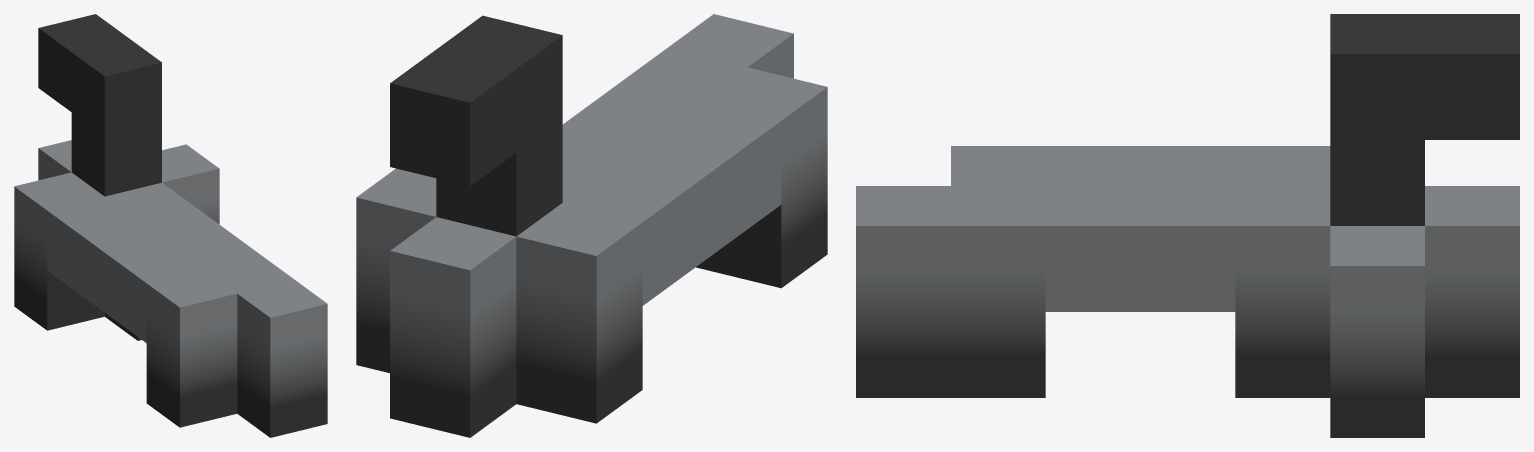
Rendered from Leg9.fbx.
3 views of the same model, side by side, from view 1: azimuth 30°, elevation 25°; view 2: azimuth 150°, elevation 25°; view 3: azimuth 270°, elevation 25° (orthographic). The views are drawn at different scales.
Parts seen in each view (by area): view 1: Leg9; view 2: Leg9; view 3: Leg9.
Part boxes in pixels (left/top/right/bottom): Leg9: left=14, top=14, right=327, bottom=437; Leg9: left=356, top=14, right=827, bottom=437; Leg9: left=856, top=14, right=1519, bottom=437.
Size of the model in its own units: 15 by 20 by 35.
